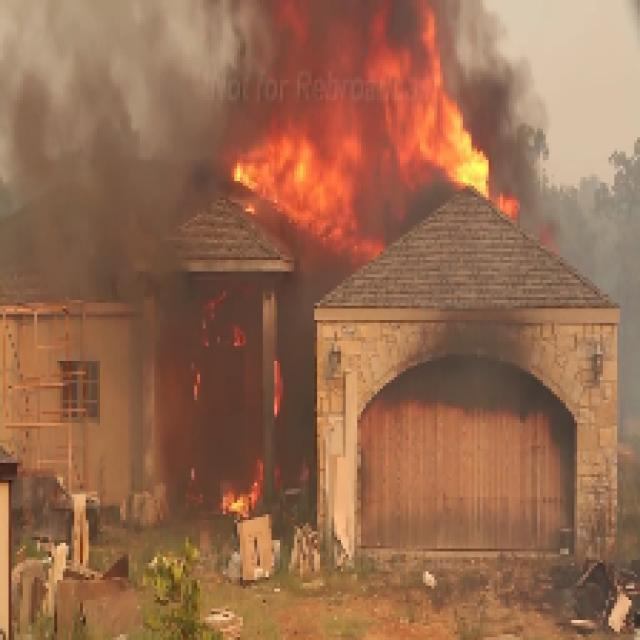Fire: (226, 38, 512, 252)
Smoke: (34, 57, 189, 329)
